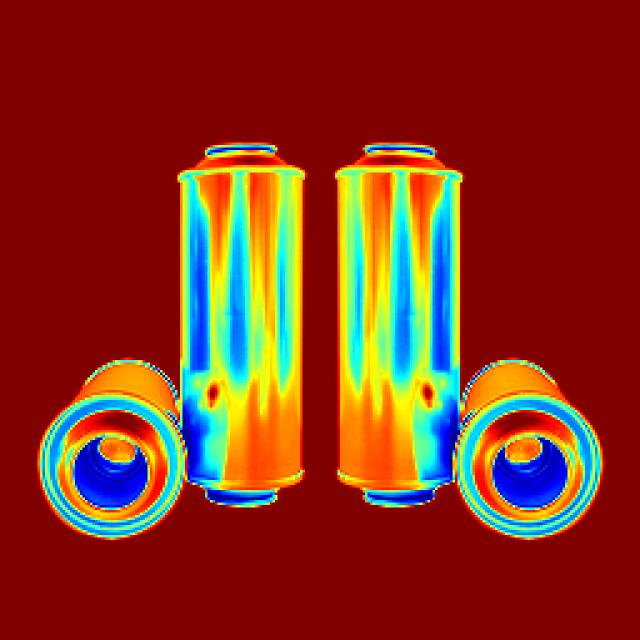Aerosol Cans: (180, 132, 308, 521), (336, 127, 472, 483), (15, 306, 193, 564), (440, 340, 598, 560)
